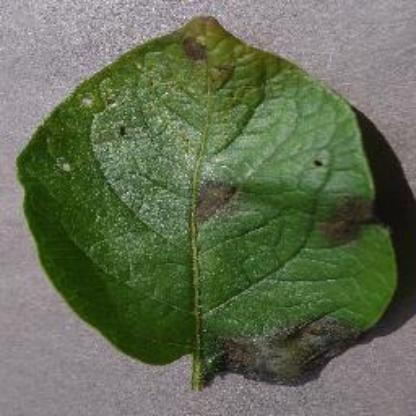Late-Blight: (20, 16, 398, 390)
